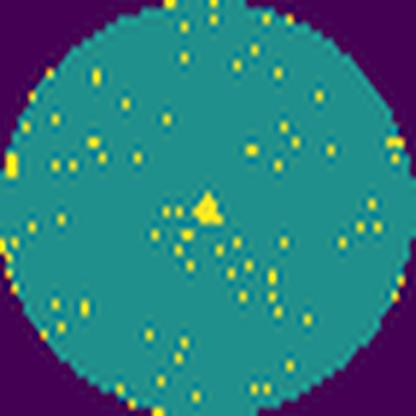Center: (194, 192, 224, 225)
